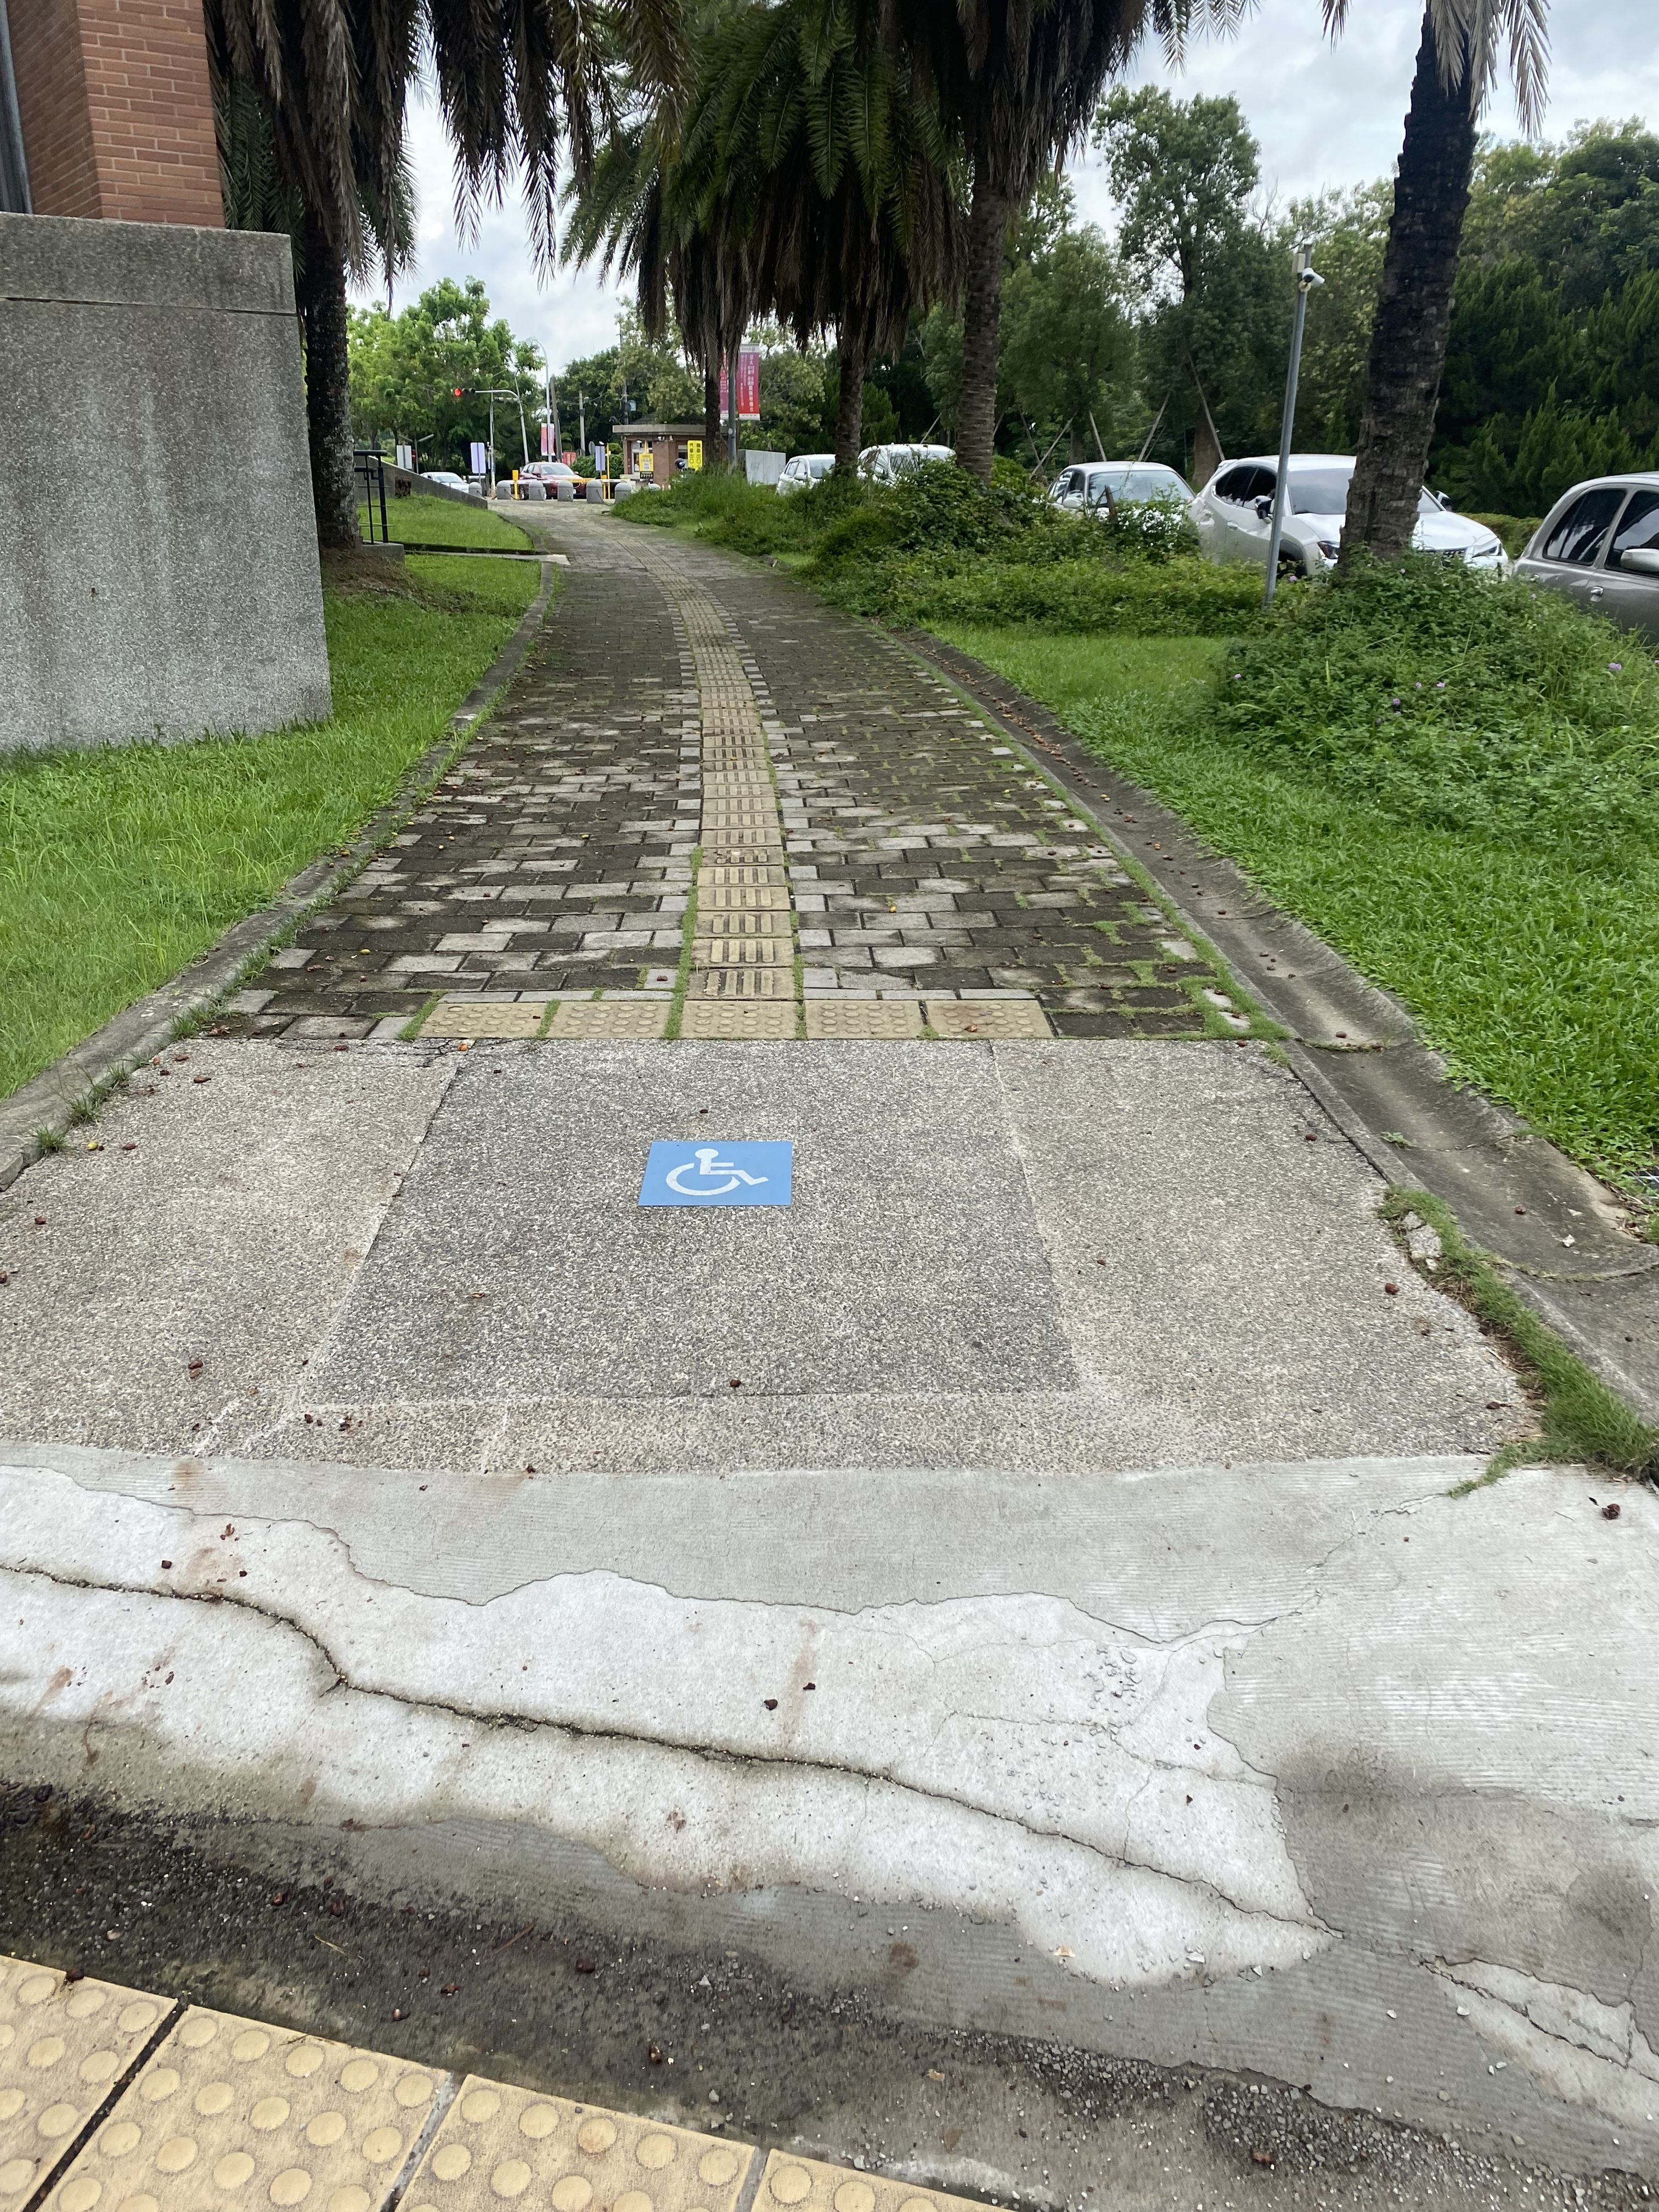0: (23, 796, 1659, 2212)
sidewalk: (471, 467, 1107, 960)
